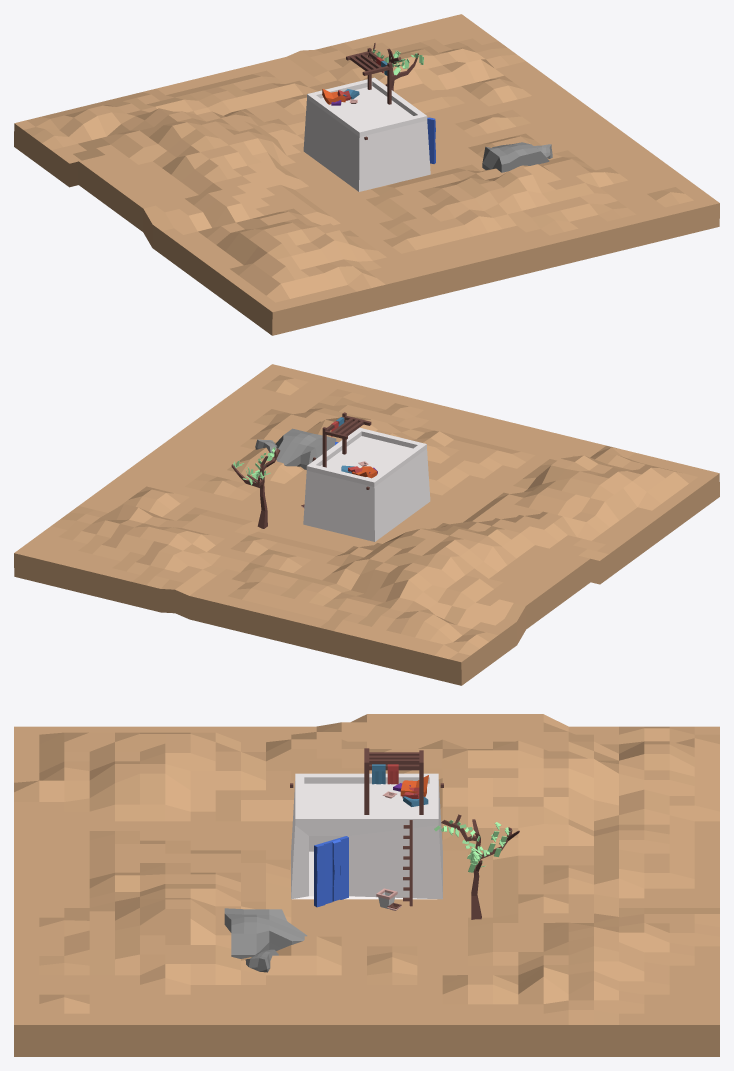
The model's file is decor_grec.glb.
3 renders of one model, top to bottom at view 1: azimuth 30°, elevation 25°; view 2: azimuth 150°, elevation 25°; view 3: azimuth 270°, elevation 25°, orthographic. The views are drawn at different scales.
Visible parts, largest first — view 1: Plane, Cube, Cube.029, Cube.001; view 2: Plane, Cube, Cube.029, Cube.001, Cube.009; view 3: Plane, Cube, Cube.029, Cube.002, Cube.001, Cube.009, Cube.028.
Boxes of the visible parts, <box> form: Plane: <box>14,14,719,335</box>; Cube: <box>303,77,430,191</box>; Cube.029: <box>482,142,549,172</box>; Cube.001: <box>346,48,391,104</box>; Plane: <box>14,364,719,685</box>; Cube: <box>303,427,430,541</box>; Cube.029: <box>275,428,336,469</box>; Cube.001: <box>322,412,371,467</box>; Cube.009: <box>231,448,280,528</box>; Plane: <box>14,714,719,1056</box>; Cube: <box>291,773,442,899</box>; Cube.029: <box>224,908,307,958</box>; Cube.002: <box>314,836,348,907</box>; Cube.001: <box>364,748,423,814</box>; Cube.009: <box>441,814,519,919</box>; Cube.028: <box>403,820,412,906</box>.
Size of the model in its own units: 57.31 by 14.62 by 57.28.
